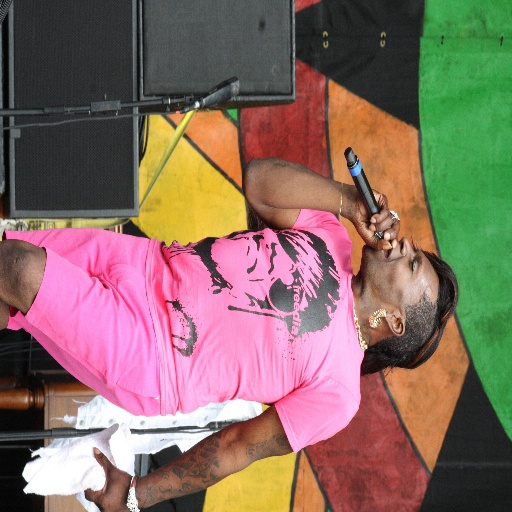hand: (346, 164, 407, 254), (84, 444, 133, 511)
